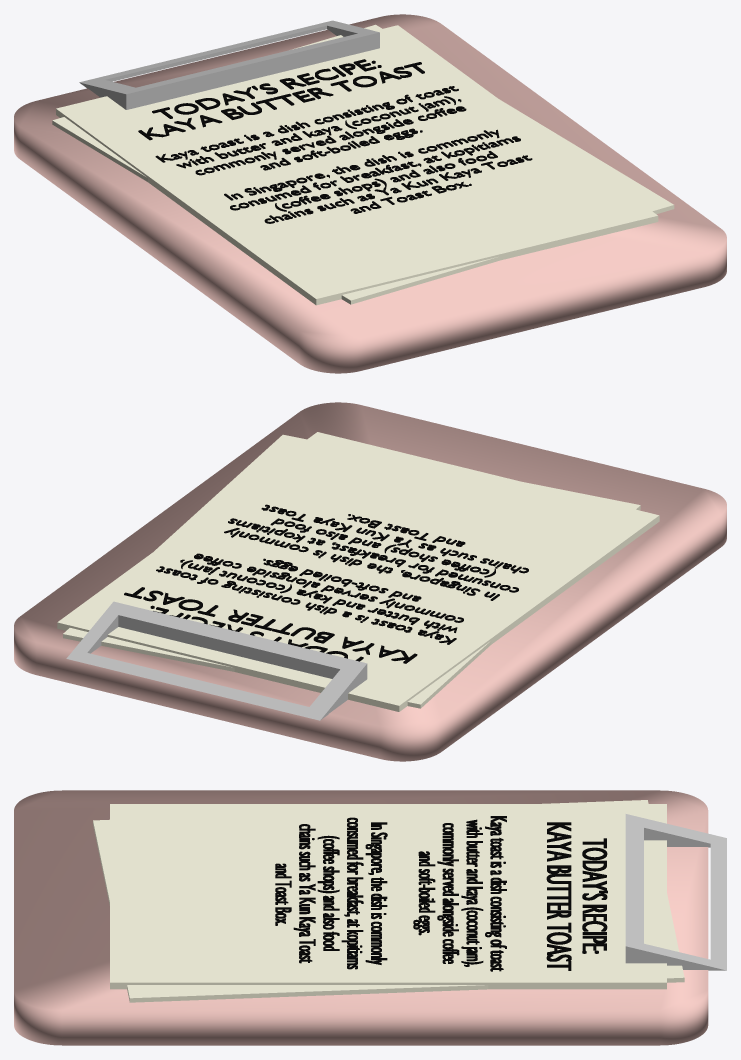
Rendered from KBTclipboard.fbx.
The picture shows the model from 3 angles, top to bottom: view 1: azimuth 30°, elevation 25°; view 2: azimuth 150°, elevation 25°; view 3: azimuth 270°, elevation 25°; orthographic projection. The views are drawn at different scales.
Visible parts, largest first — view 1: Cube.004, obj_0.005, Text.003, Cube.003, Cube.005, Text.004; view 2: Cube.004, obj_0.005, Text.003, Cube.003, Cube.005, Text.004; view 3: Cube.004, obj_0.005, Text.003, Cube.003, Cube.005, Text.004.
Boxes of the visible parts, x1,y1,x2,y2 form: Cube.004: (56,25,658,305); obj_0.005: (14,14,726,373); Text.003: (155,86,532,223); Cube.003: (79,20,379,109); Cube.005: (52,24,674,304); Text.004: (138,59,424,140); Cube.004: (57,432,659,711); obj_0.005: (14,402,726,761); Text.003: (156,504,528,644); Cube.003: (66,601,367,720); Cube.005: (63,434,640,708); Text.004: (124,587,417,663); Cube.004: (110,804,666,989); obj_0.005: (14,790,708,1045); Text.003: (275,816,506,971); Cube.003: (625,814,726,970); Cube.005: (93,800,684,1002); Text.004: (546,822,607,970).
Bounding box in the file's own units: 263 × 32.69 × 360.
